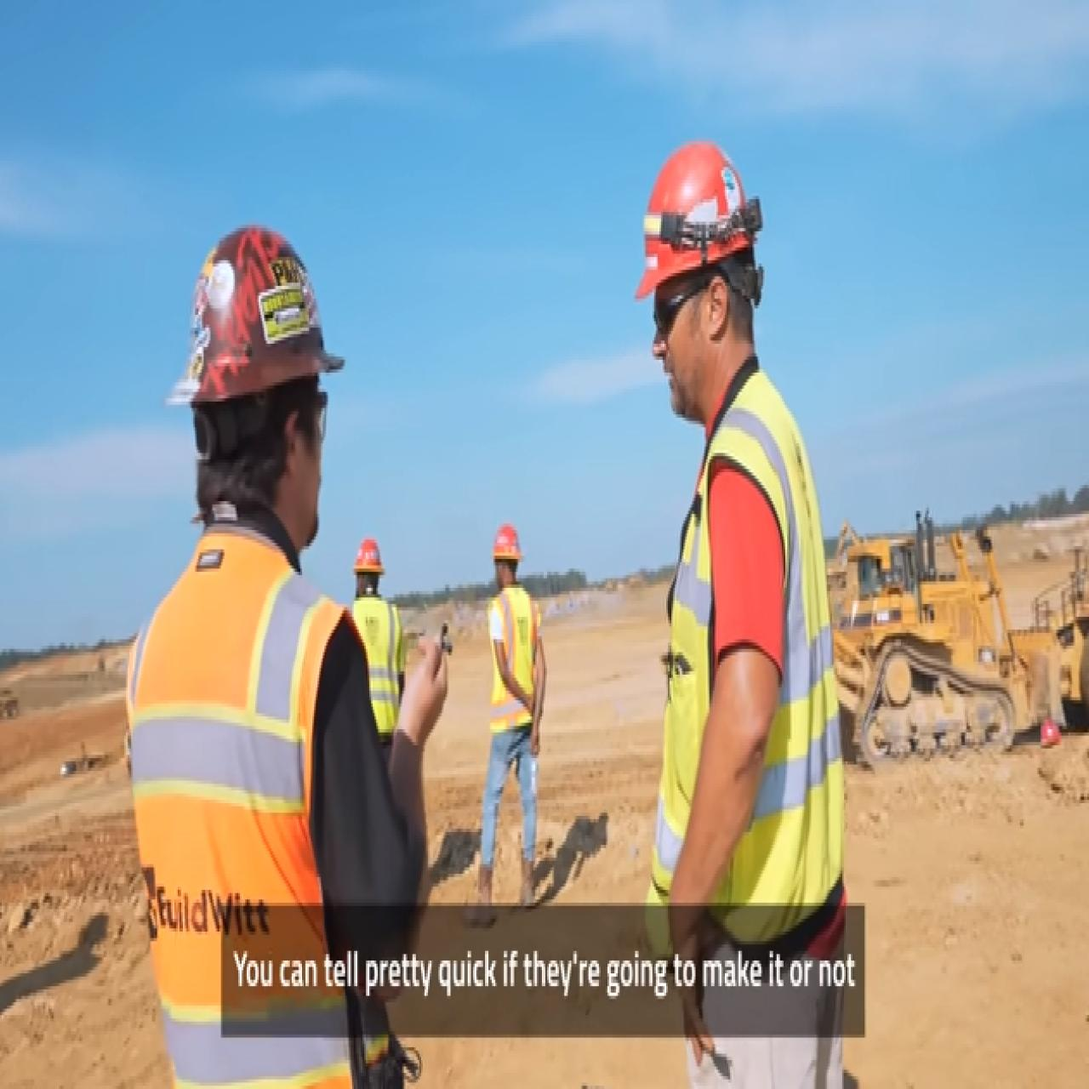NO_Safety_Vest: (354, 595, 402, 746)
Person: (124, 207, 440, 1089), (621, 112, 889, 1089), (469, 504, 561, 928), (340, 532, 414, 766)
Safety_Vest: (129, 528, 351, 1089), (650, 380, 845, 946), (482, 592, 545, 748)
